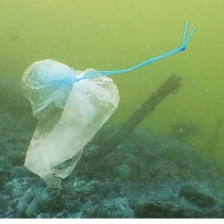plastic_bag: (14, 55, 119, 191)
